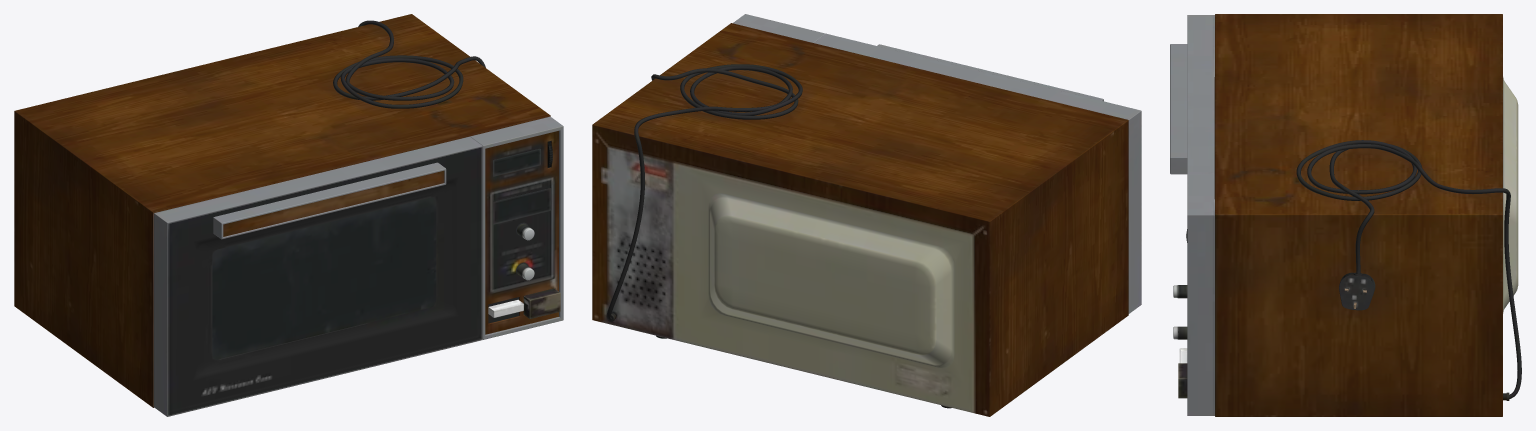
The model's file is microwave.glb.
3 renders of one model, left to right at view 1: azimuth 30°, elevation 25°; view 2: azimuth 150°, elevation 25°; view 3: azimuth 270°, elevation 25°, orthographic. The views are drawn at different scales.
Parts seen in each view (by area): view 1: vintage_microwave; view 2: vintage_microwave; view 3: vintage_microwave.
Part boxes in pixels (left/top/right/bottom): vintage_microwave: left=14, top=14, right=563, bottom=416; vintage_microwave: left=592, top=14, right=1141, bottom=416; vintage_microwave: left=1170, top=14, right=1521, bottom=416.
Size of the model in its own units: 1.07 by 0.5258 by 0.7456.
Materials: 2 (2 with a texture image).
